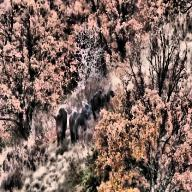boar: (54, 92, 72, 149), (76, 101, 92, 140), (94, 88, 114, 108)
